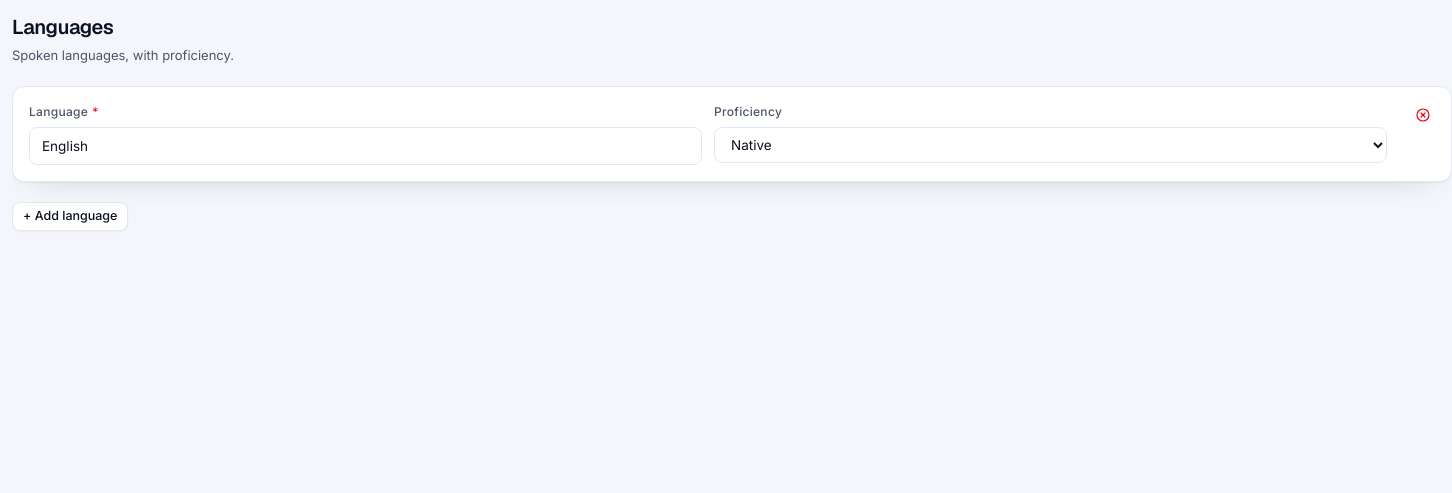
Test case: LanguagesForm › flags a language added twice right away, ignoring case and spaces
Click the button "+ Add language" at (70, 216), box [12,202,128,231]
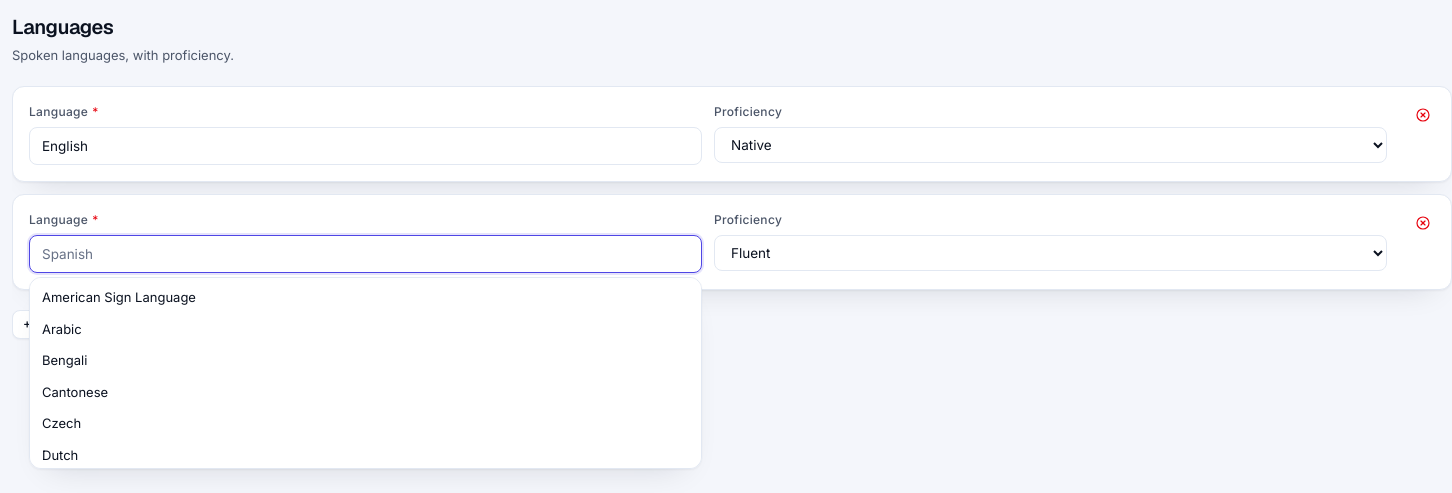
Type "  english " into the 2nd dropdown with placeholder "Spanish" at (366, 254), box [29,235,702,273]
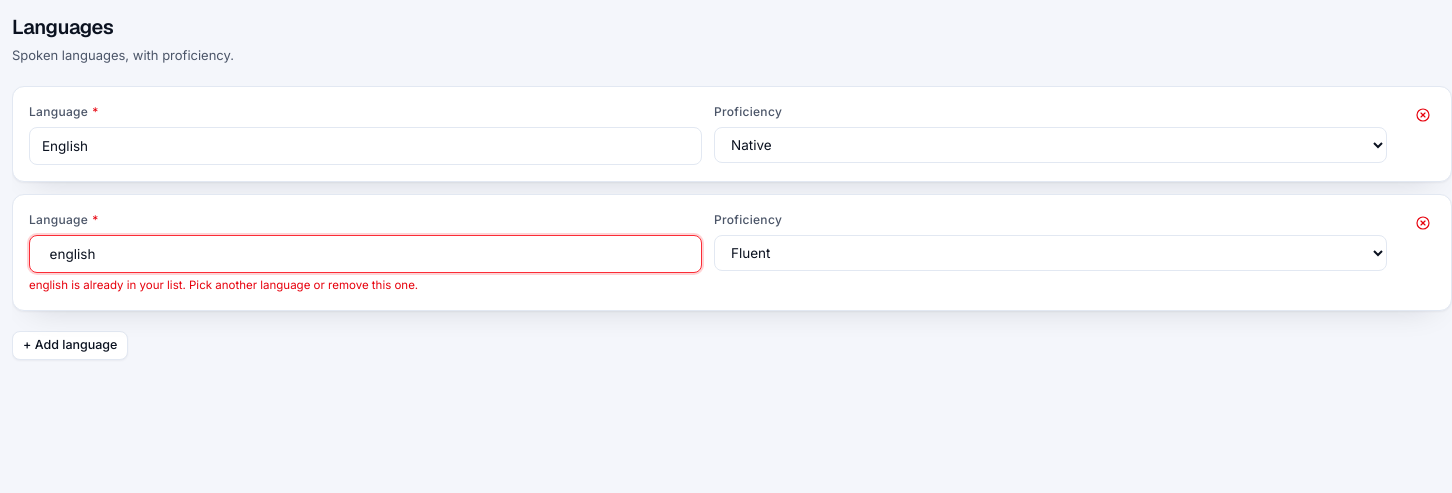
Check: the text "english is already in your list. Pick another language or remove this one." is shown, box [29,278,418,292]
